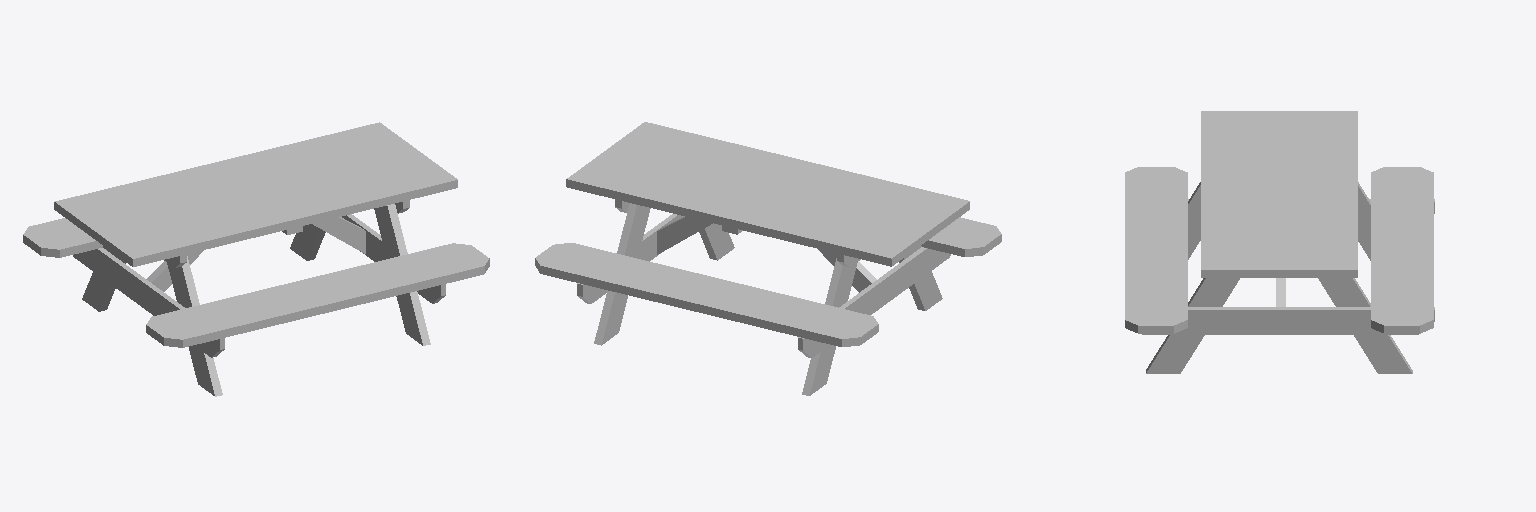
Rendered from PicnicTable.obj.
3 renders of one model, left to right at view 1: azimuth 30°, elevation 25°; view 2: azimuth 150°, elevation 25°; view 3: azimuth 270°, elevation 25°, orthographic.
Parts seen in each view (by area): view 1: PicnicTable_Cube.008; view 2: PicnicTable_Cube.008; view 3: PicnicTable_Cube.008.
Boxes of the visible parts, <box> form: PicnicTable_Cube.008: <box>23,122,489,396</box>; PicnicTable_Cube.008: <box>535,122,1001,395</box>; PicnicTable_Cube.008: <box>1125,111,1434,373</box>.
Bounding box in the file's own units: 1.72 × 0.6631 × 1.42.